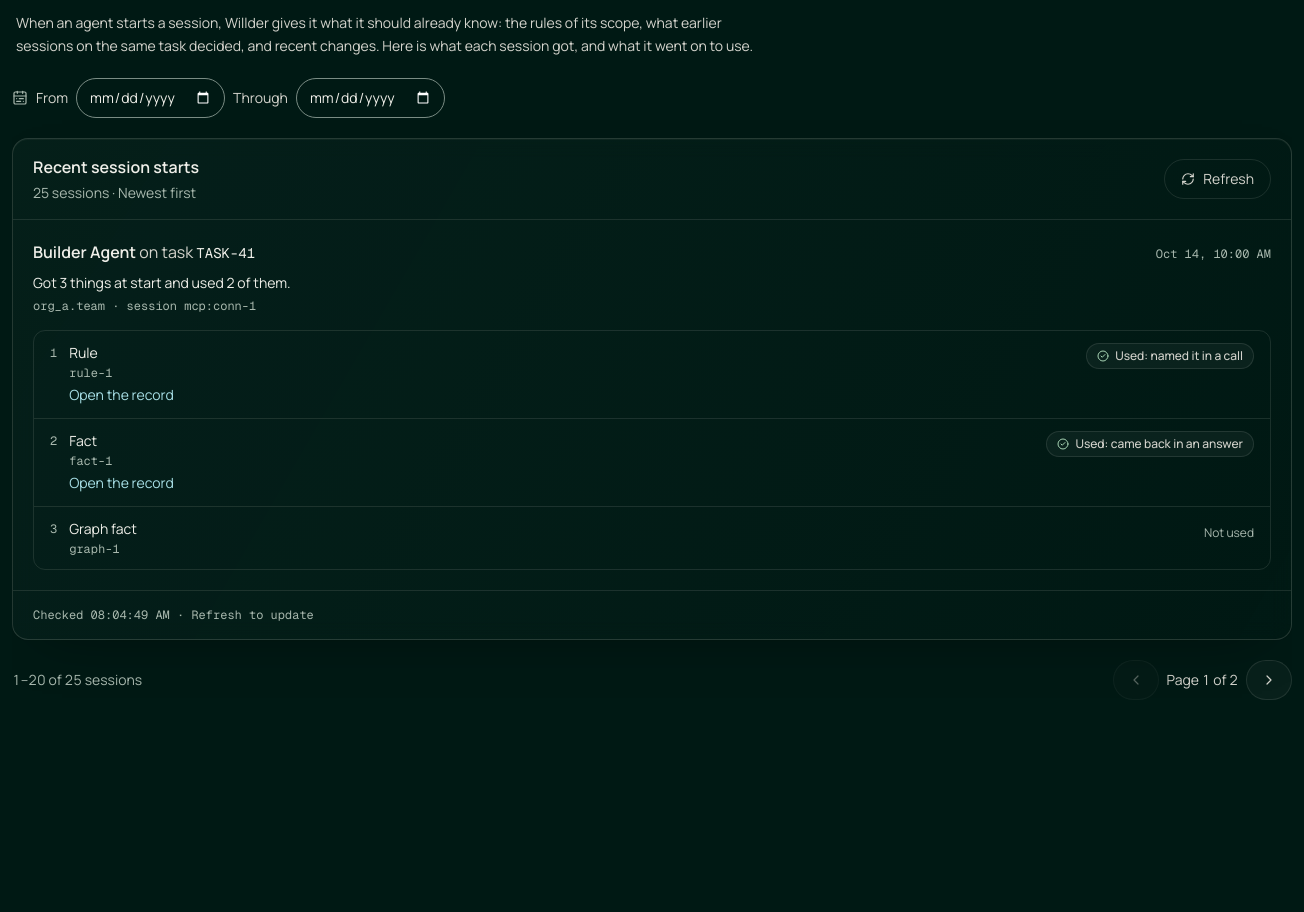
Scenario: SessionStarts › pages through older sessions
Expected: the text "Page 1 of 2" is shown, [1167, 670, 1238, 690]
Click the button named "Next page" at (1269, 680), box [1246, 660, 1292, 700]
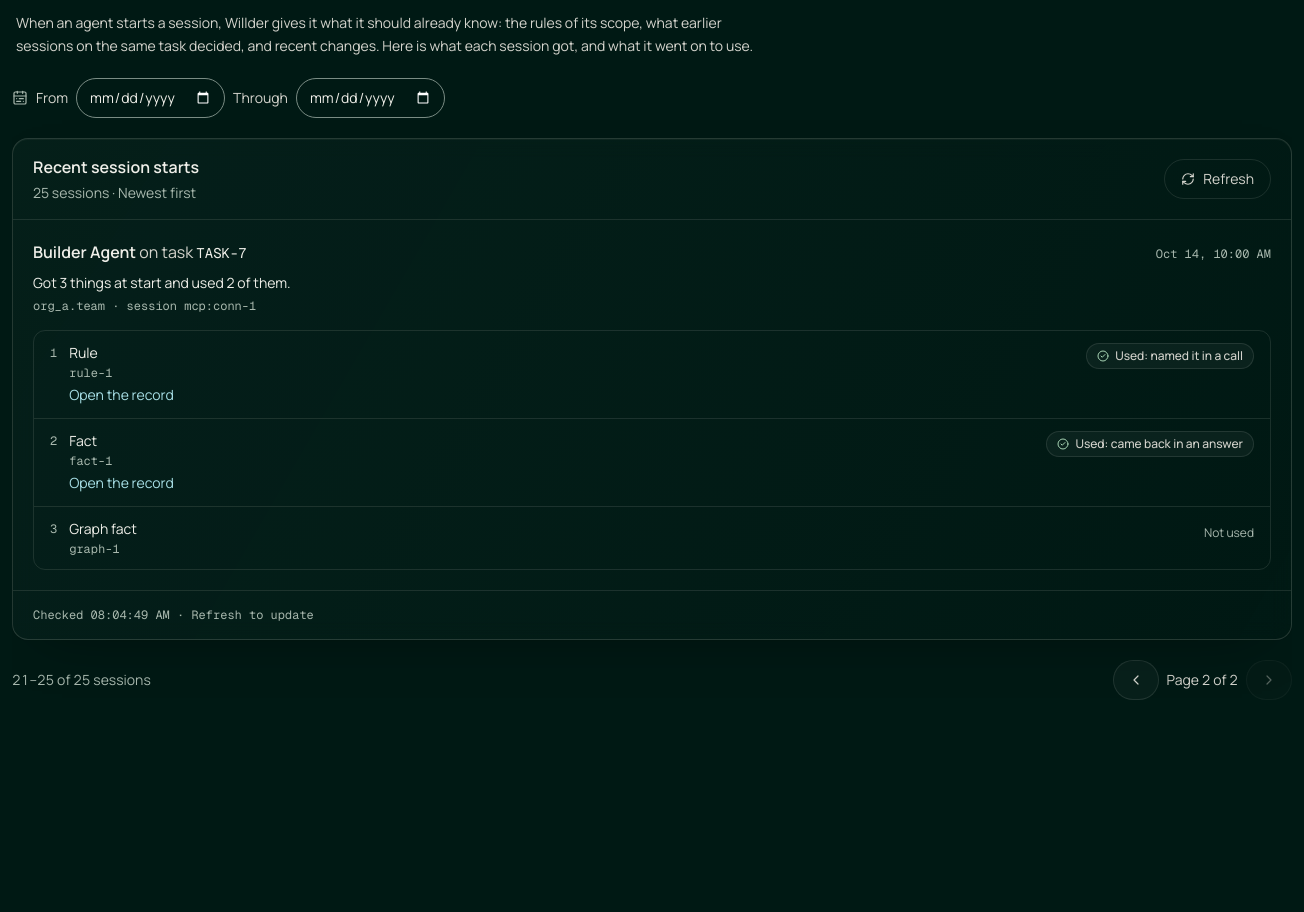
Expected: the text "TASK-7" is shown, [196, 244, 247, 262]
